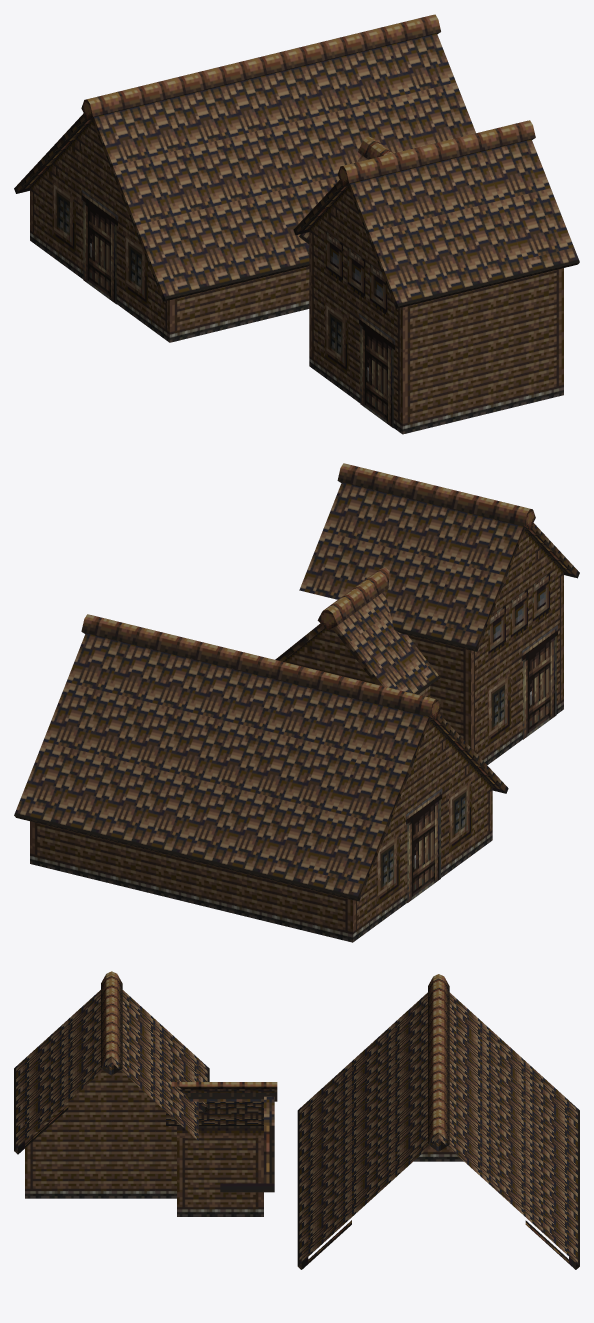
File: MbdMD_Co_T_River_L_A_WeaponShop.FBX
3 views of the same model, one above another, from view 1: azimuth 30°, elevation 25°; view 2: azimuth 150°, elevation 25°; view 3: azimuth 270°, elevation 25° (orthographic). The views are drawn at different scales.
Parts seen in each view (by area): view 1: MbdMD_Co_T_River_L_A_Barn, MbdMD_Co_T_River_L_A_WeaponShop; view 2: MbdMD_Co_T_River_L_A_Barn, MbdMD_Co_T_River_L_A_WeaponShop; view 3: MbdMD_Co_T_River_L_A_Barn, MbdMD_Co_T_River_L_A_WeaponShop.
Part boxes in pixels (box(x1,y1,x2,y2)): MbdMD_Co_T_River_L_A_Barn: box(14, 14, 475, 342); MbdMD_Co_T_River_L_A_WeaponShop: box(293, 120, 579, 434); MbdMD_Co_T_River_L_A_Barn: box(14, 614, 508, 942); MbdMD_Co_T_River_L_A_WeaponShop: box(275, 463, 579, 764); MbdMD_Co_T_River_L_A_Barn: box(297, 974, 579, 1269); MbdMD_Co_T_River_L_A_WeaponShop: box(14, 971, 277, 1216).
Bounding box in the file's own units: 863 × 562 × 1303.
